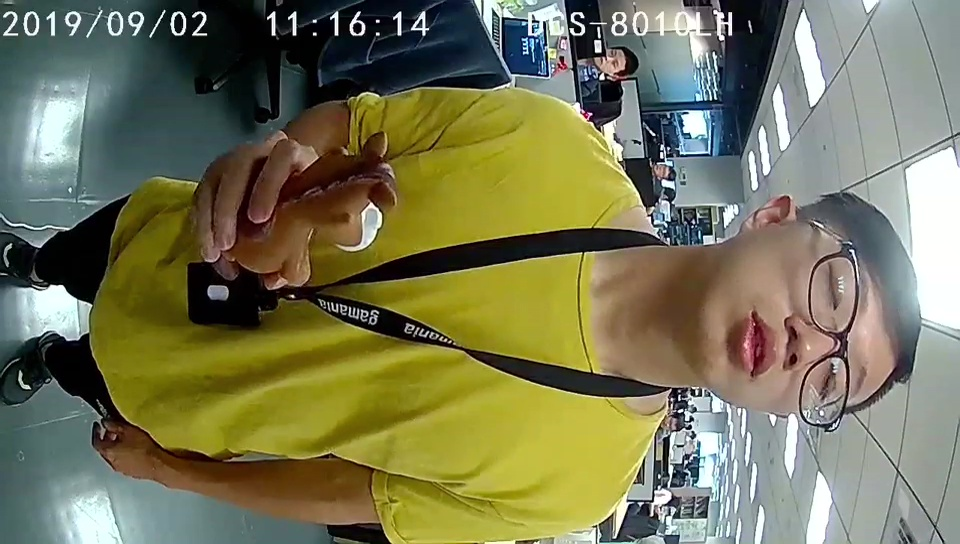horse: (286, 134, 397, 273)
